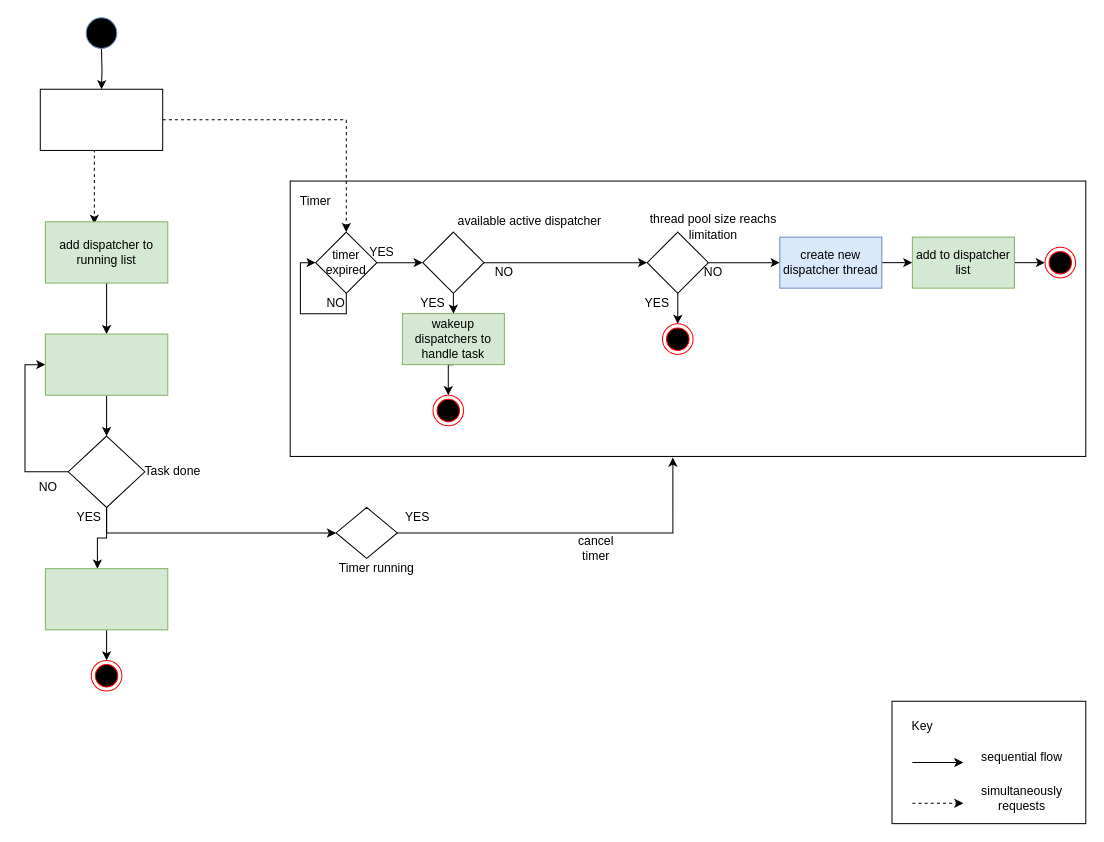
Image size: 1104x842. Some labels were removed from this diagram. Each missing label, with the centre of its shape:
"Initiate timer" goes at (101,119).
"process task" goes at (106,364).
"remove dispatcher from running list" goes at (106,599).
